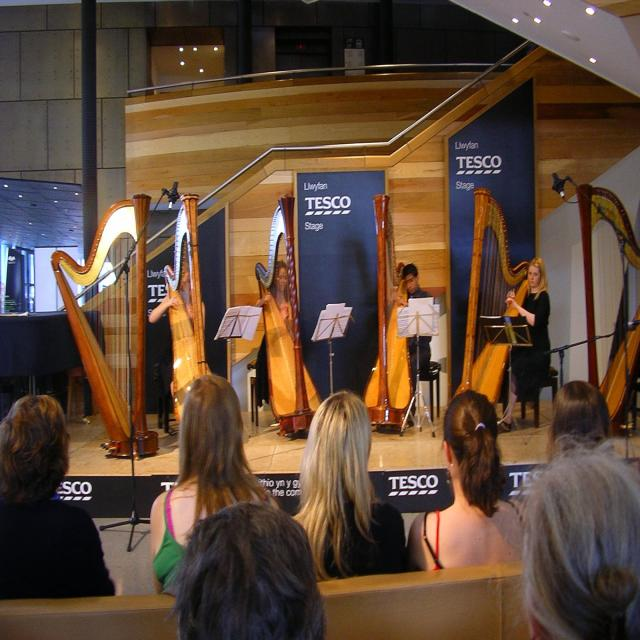harp: (52, 192, 161, 459), (451, 182, 532, 430), (255, 194, 329, 436), (574, 184, 640, 435), (358, 192, 421, 433), (160, 195, 218, 417)
